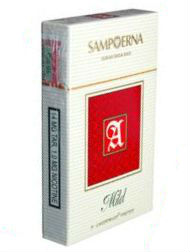A Mild: (67, 89, 158, 244)
